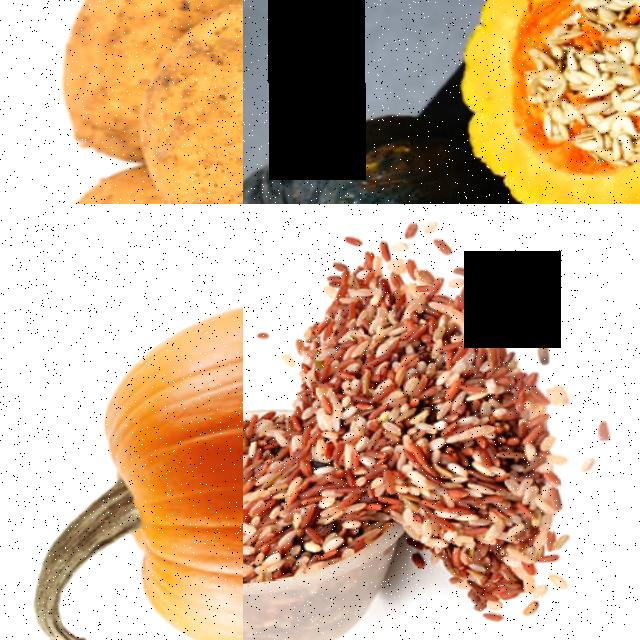potato: (120, 0, 243, 204)
pumpkin: (80, 276, 243, 640), (440, 0, 640, 204), (243, 126, 389, 204)
red rice: (278, 244, 558, 548), (243, 428, 367, 589)
